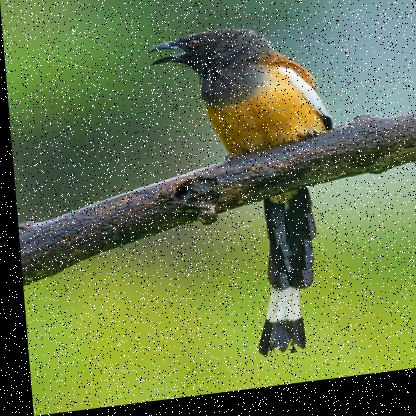Burung: (144, 23, 345, 373)
